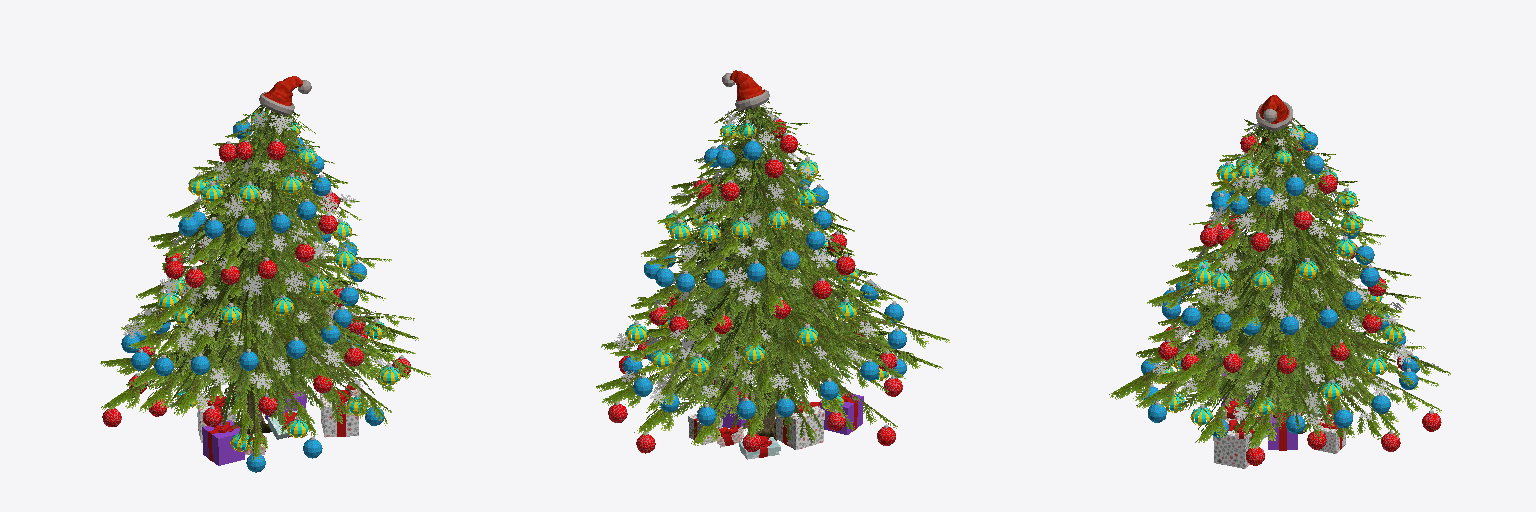
The picture shows the model from 3 angles: view 1: azimuth 30°, elevation 25°; view 2: azimuth 150°, elevation 25°; view 3: azimuth 270°, elevation 25°; orthographic projection.
Parts seen in each view (by area): view 1: spruce; view 2: spruce; view 3: spruce.
Part boxes in pixels (left/top/right/bottom): spruce: left=100, top=76, right=430, bottom=472; spruce: left=596, top=70, right=949, bottom=459; spruce: left=1109, top=95, right=1450, bottom=468.
Size of the model in its own units: 1.48 by 1.6 by 1.49.
1 materials, 1 textured.